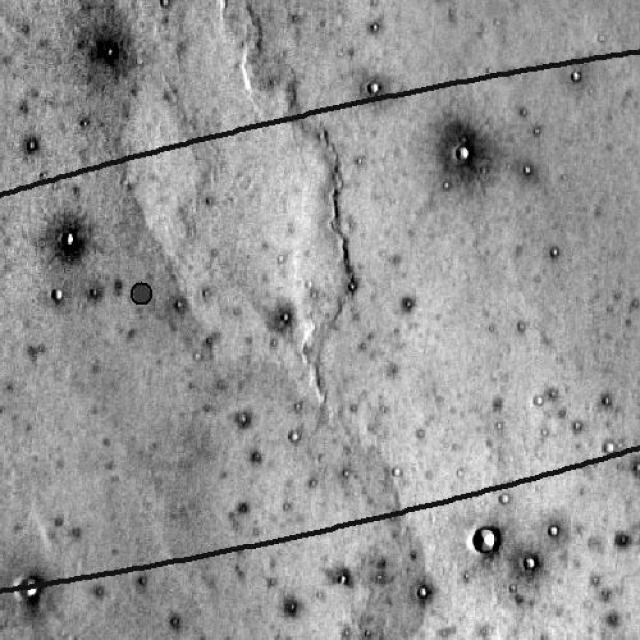crater: (0, 70, 69, 216), (0, 569, 36, 640), (403, 0, 475, 32), (0, 0, 46, 47), (462, 518, 512, 560), (586, 0, 640, 38), (43, 218, 89, 256), (0, 603, 41, 640), (270, 304, 302, 330), (0, 229, 20, 268), (449, 141, 478, 165), (518, 548, 542, 576), (541, 518, 569, 542), (540, 242, 568, 265), (21, 133, 46, 158), (601, 0, 640, 16), (0, 379, 18, 413), (231, 406, 257, 428), (45, 284, 70, 306), (298, 272, 320, 295), (566, 415, 589, 437), (598, 437, 621, 459), (311, 448, 333, 471), (168, 294, 190, 316), (0, 279, 14, 312), (362, 78, 384, 99), (479, 0, 512, 13), (527, 393, 552, 410), (595, 390, 616, 410), (415, 579, 435, 600), (278, 600, 306, 615), (28, 0, 59, 13), (14, 20, 35, 39), (543, 383, 564, 402), (0, 446, 14, 474), (349, 153, 372, 170), (123, 0, 155, 12), (134, 572, 152, 593), (337, 0, 366, 13), (198, 282, 215, 304), (0, 464, 13, 492), (84, 0, 112, 13), (514, 103, 534, 121), (334, 570, 352, 590), (31, 167, 52, 184), (0, 330, 13, 357), (0, 335, 15, 358), (290, 399, 313, 414), (0, 0, 18, 19), (14, 96, 32, 115), (592, 29, 610, 48), (338, 464, 357, 482), (272, 252, 292, 269), (205, 243, 225, 260), (190, 0, 218, 12), (566, 68, 584, 86), (202, 192, 220, 210), (496, 488, 514, 506), (0, 456, 13, 480), (366, 19, 384, 36), (166, 612, 185, 628), (285, 427, 301, 446), (0, 212, 12, 237), (450, 0, 475, 12), (387, 463, 407, 478), (626, 458, 640, 479), (401, 294, 418, 311), (414, 0, 438, 12), (288, 10, 306, 26), (90, 585, 112, 598), (0, 482, 10, 510), (0, 438, 12, 461), (617, 0, 640, 12), (208, 0, 235, 10), (511, 318, 530, 332), (0, 414, 12, 436), (244, 0, 266, 12), (520, 161, 536, 177), (438, 178, 456, 192), (0, 101, 10, 126), (443, 0, 468, 10), (570, 0, 595, 10), (152, 0, 177, 10), (481, 61, 497, 76), (623, 0, 640, 14), (0, 204, 10, 227), (0, 495, 9, 520), (305, 475, 321, 489), (0, 233, 12, 251), (0, 574, 12, 592), (209, 0, 233, 9), (530, 124, 545, 138), (0, 485, 9, 508), (464, 0, 486, 9), (0, 0, 14, 14), (0, 0, 15, 13), (76, 118, 92, 130), (191, 349, 207, 361), (0, 554, 9, 575), (572, 0, 595, 8), (0, 576, 9, 596), (336, 0, 354, 10), (475, 0, 495, 9), (472, 0, 492, 9), (0, 315, 12, 330), (344, 278, 359, 290), (390, 0, 412, 8), (556, 0, 578, 8), (0, 372, 9, 391), (0, 0, 19, 9), (558, 0, 577, 9), (0, 10, 10, 27), (0, 51, 10, 68), (0, 0, 14, 12), (0, 422, 9, 440), (0, 0, 12, 13), (0, 0, 13, 12), (463, 0, 482, 8), (458, 0, 483, 6), (0, 573, 9, 589), (0, 0, 12, 12), (0, 380, 8, 398), (286, 0, 304, 8), (554, 0, 570, 9), (434, 0, 452, 8), (64, 0, 81, 8), (74, 0, 91, 8), (0, 0, 13, 10), (410, 0, 431, 6), (0, 0, 12, 10), (0, 50, 8, 65), (0, 420, 8, 434), (0, 506, 8, 520), (0, 0, 12, 9), (530, 0, 548, 6), (0, 0, 10, 10), (190, 0, 206, 6), (0, 0, 10, 9), (0, 0, 10, 9), (577, 0, 592, 6), (0, 29, 6, 43), (390, 0, 404, 6), (0, 0, 9, 9), (0, 0, 8, 10), (0, 0, 10, 8), (0, 21, 6, 34), (249, 0, 262, 6), (166, 0, 179, 6), (187, 0, 202, 5), (0, 0, 9, 8), (0, 0, 9, 8), (0, 0, 8, 9), (393, 0, 407, 5), (392, 0, 409, 4), (0, 0, 8, 8), (0, 568, 6, 578), (0, 0, 12, 5), (0, 0, 6, 9)
